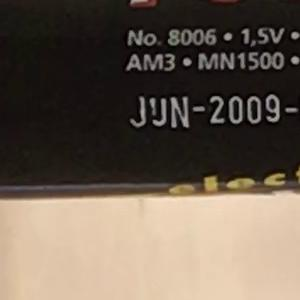1,5V: (232, 19, 294, 53)
